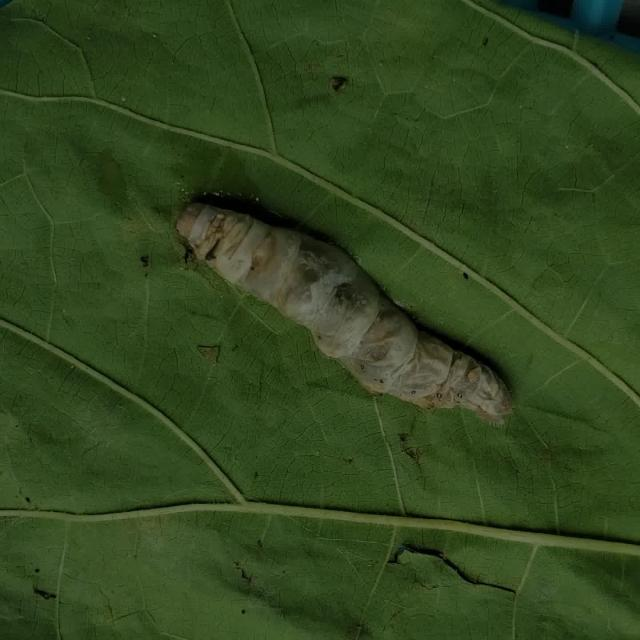Grasserie: (171, 182, 519, 424)
